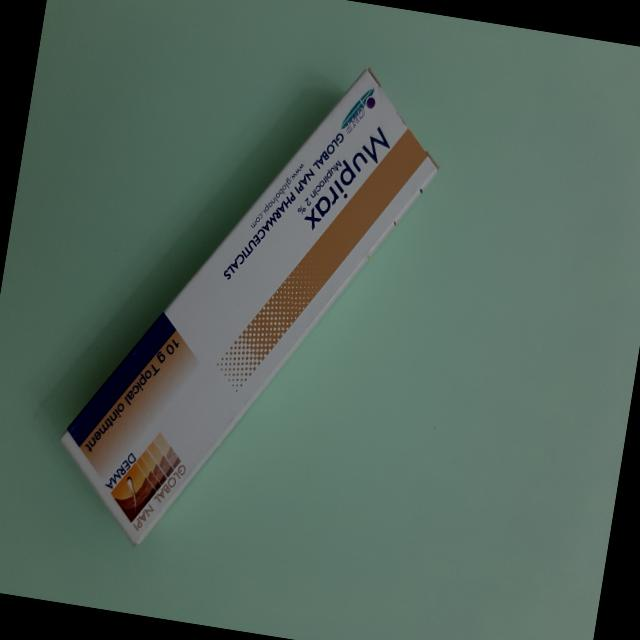medicine_packaging: (33, 16, 471, 604)
